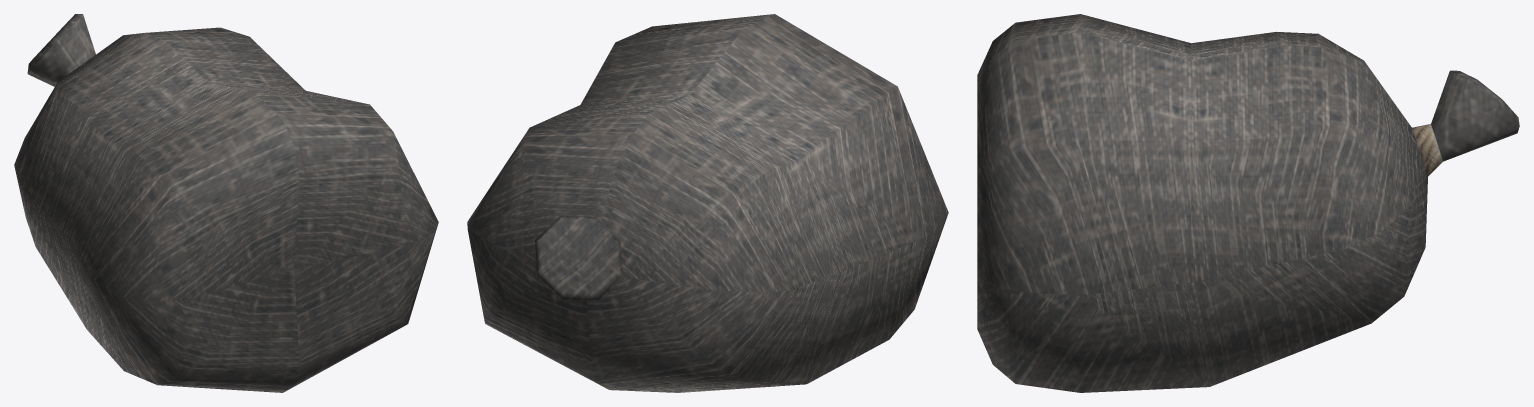
File: Bag_Closed_B.fbx
3 renders of one model, left to right at view 1: azimuth 30°, elevation 25°; view 2: azimuth 150°, elevation 25°; view 3: azimuth 270°, elevation 25°, orthographic. The views are drawn at different scales.
Parts seen in each view (by area): view 1: Bag_Closed_B; view 2: Bag_Closed_B; view 3: Bag_Closed_B.
Part boxes in pixels (x1,y1,x2,y2): Bag_Closed_B: (14,14,438,392); Bag_Closed_B: (467,14,948,392); Bag_Closed_B: (977,14,1519,392).
Size of the model in its own units: 1.02 by 0.8628 by 1.27.
